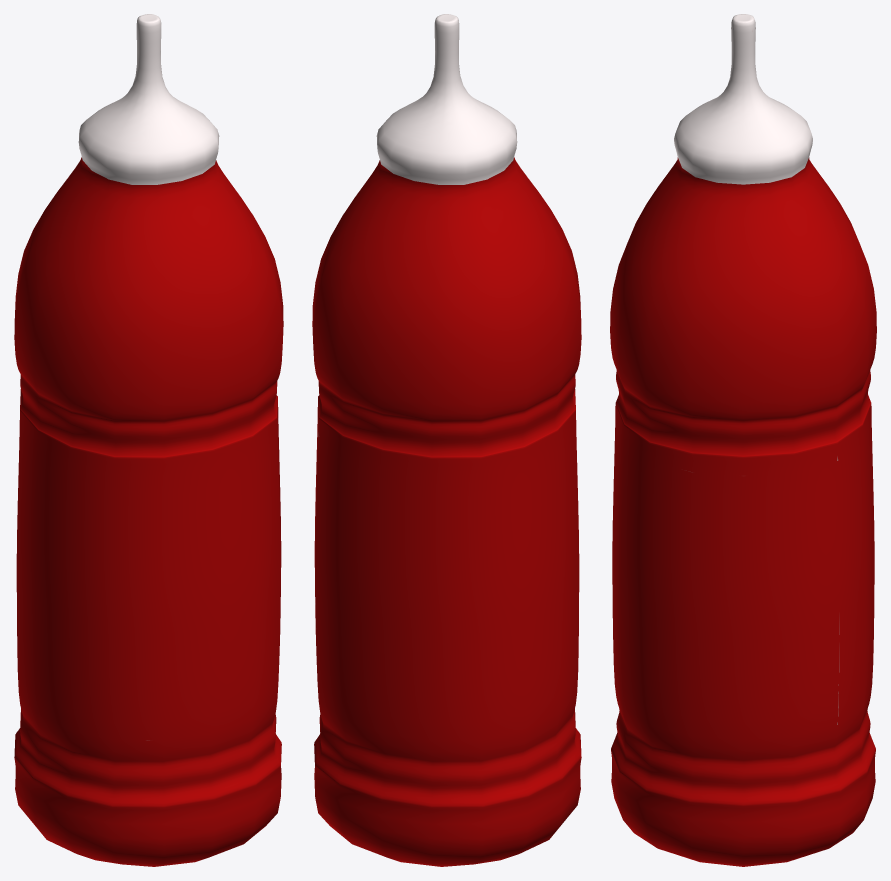
Rendered from props_grocery_ketchup.fbx.
The picture shows the model from 3 angles, left to right: view 1: azimuth 30°, elevation 25°; view 2: azimuth 150°, elevation 25°; view 3: azimuth 270°, elevation 25°; orthographic projection.
Visible parts, largest first — view 1: pCube2; view 2: pCube2; view 3: pCube2.
Boxes of the visible parts, bbox=[...] form: pCube2: bbox=[14, 14, 283, 866]; pCube2: bbox=[312, 14, 581, 866]; pCube2: bbox=[610, 14, 876, 866].
Bounding box in the file's own units: 0.9071 × 3.08 × 0.9067.
